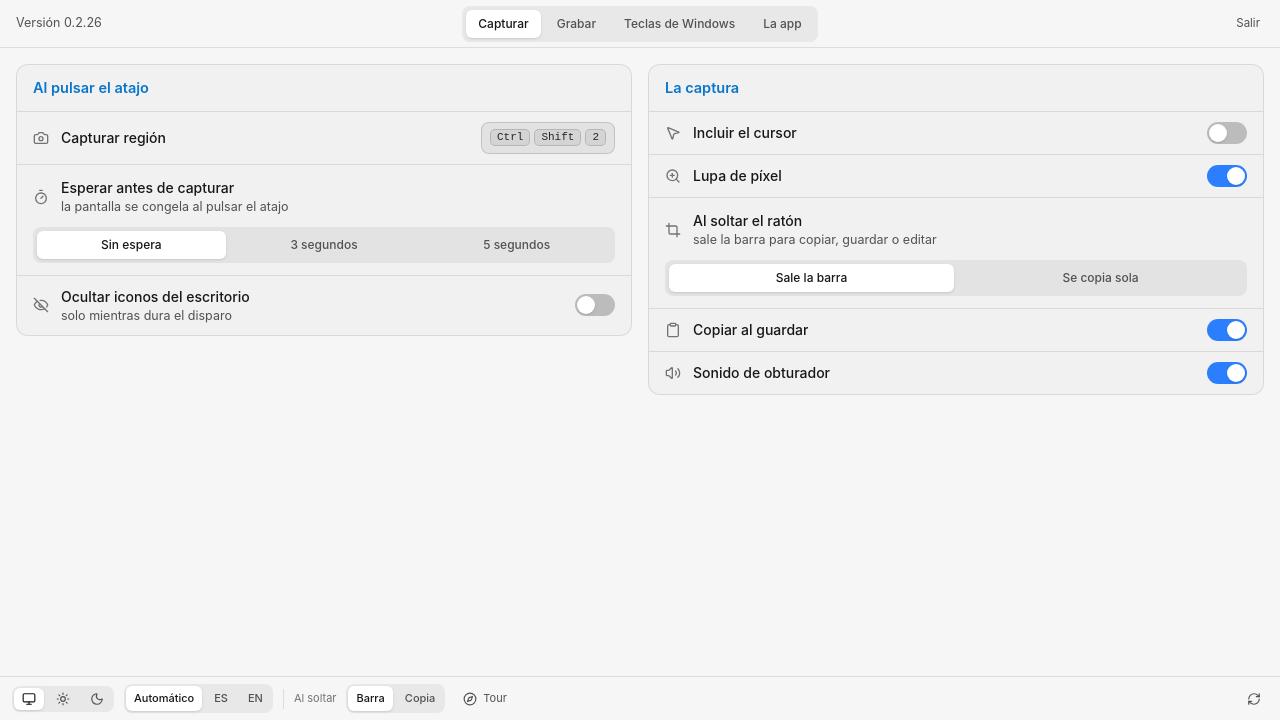
Scenario: los ultimos segundos, en «Grabar» › encendido, dice de dónde graba, a qué tamaño y lo que le cuesta al disco
expect the button "Capturar" is shown: met, box [466,10,541,38]
Click the button "Grabar" at point(576, 24), box [545,10,608,38]
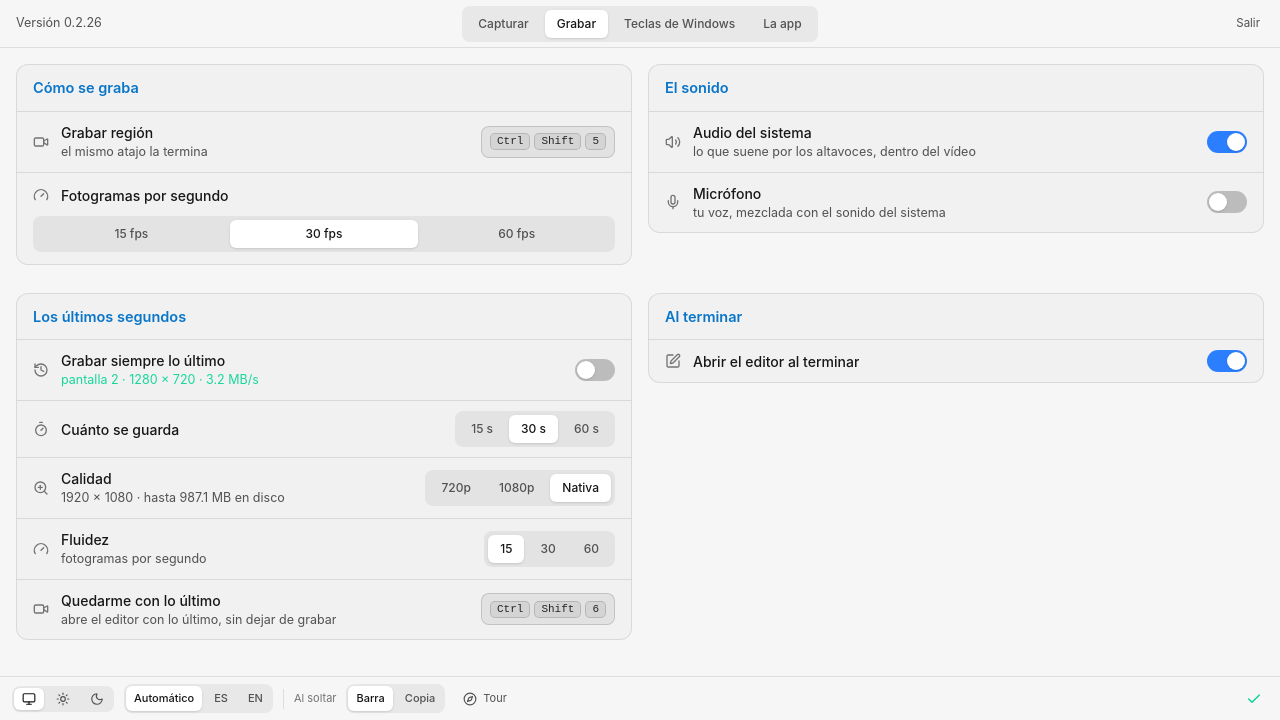
expect the text "pantalla 2 · 1280 × 720 · 3.2 MB/s" is shown: met, box [61,371,259,390]
